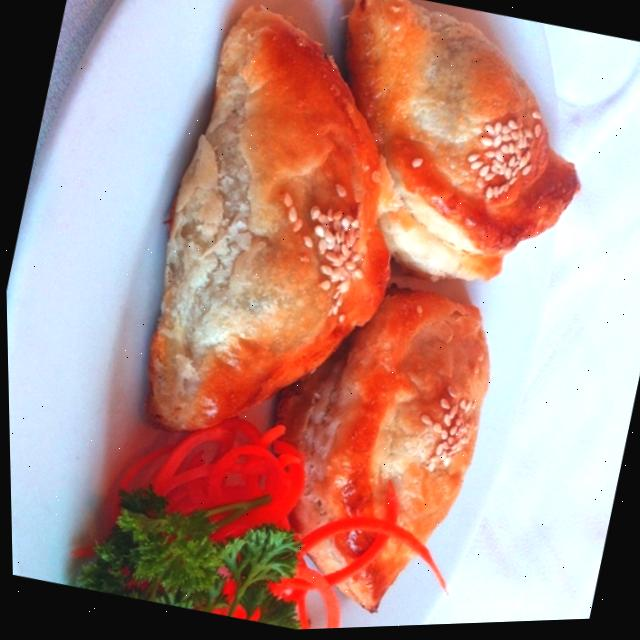炸货点心: (19, 0, 640, 639)
